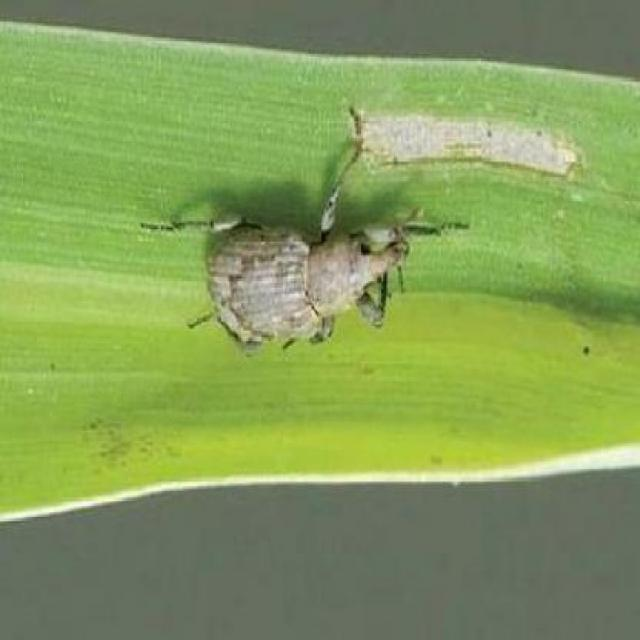rice-bug: (197, 132, 423, 362)
